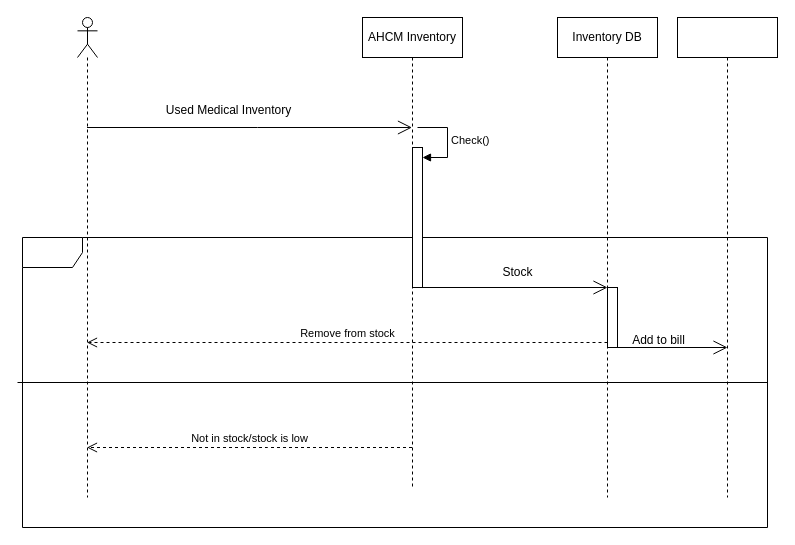
The diagram is 795 pixels wide and 545 high, and some of its shapes have lost their labels. The box of each missing label's shape, as (x1, y1, x2, y2) in pixels:
alt: (22, 236, 768, 528)
Billing Process: (676, 16, 778, 498)
